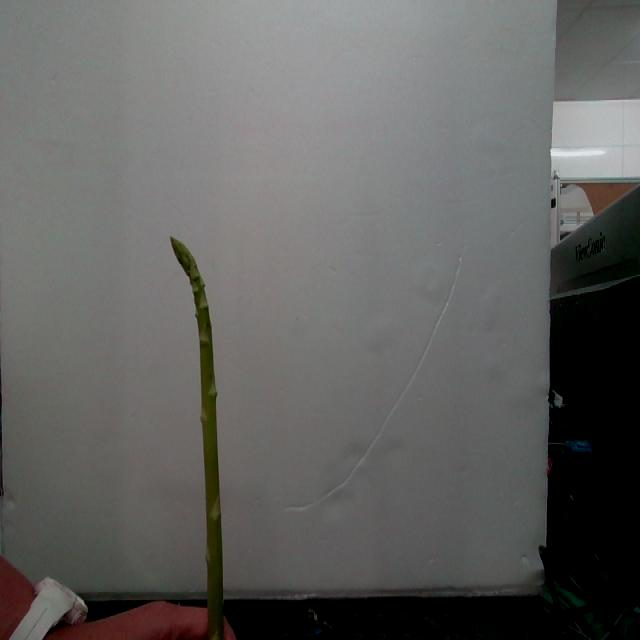aspargus: (170, 239, 226, 640)
